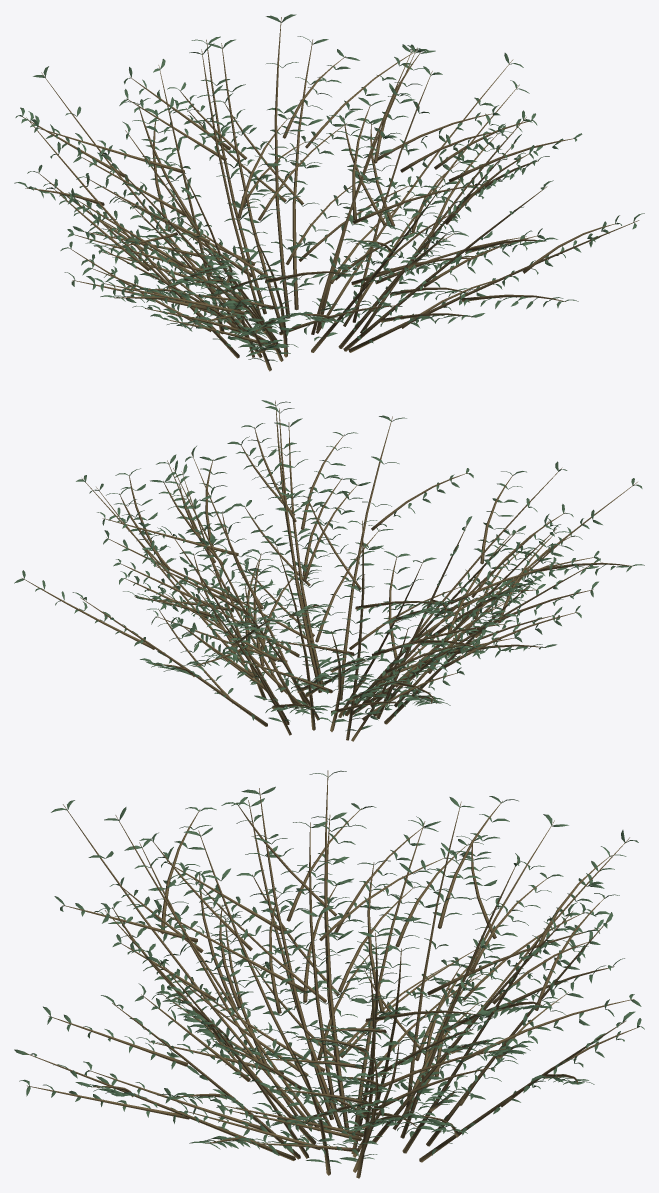
Rendered from Romarin_Etale_LOD0.fbx.
3 views of the same model, one above another, from view 1: azimuth 30°, elevation 25°; view 2: azimuth 150°, elevation 25°; view 3: azimuth 270°, elevation 25° (orthographic). The views are drawn at different scales.
Parts seen in each view (by area): view 1: Romarin_Etale; view 2: Romarin_Etale; view 3: Romarin_Etale.
Boxes of the visible parts, left/top/right/bottom form: Romarin_Etale: left=14, top=14, right=644, bottom=371; Romarin_Etale: left=14, top=400, right=644, bottom=741; Romarin_Etale: left=14, top=770, right=644, bottom=1178.
Size of the model in its own units: 107 by 51.29 by 99.36.
